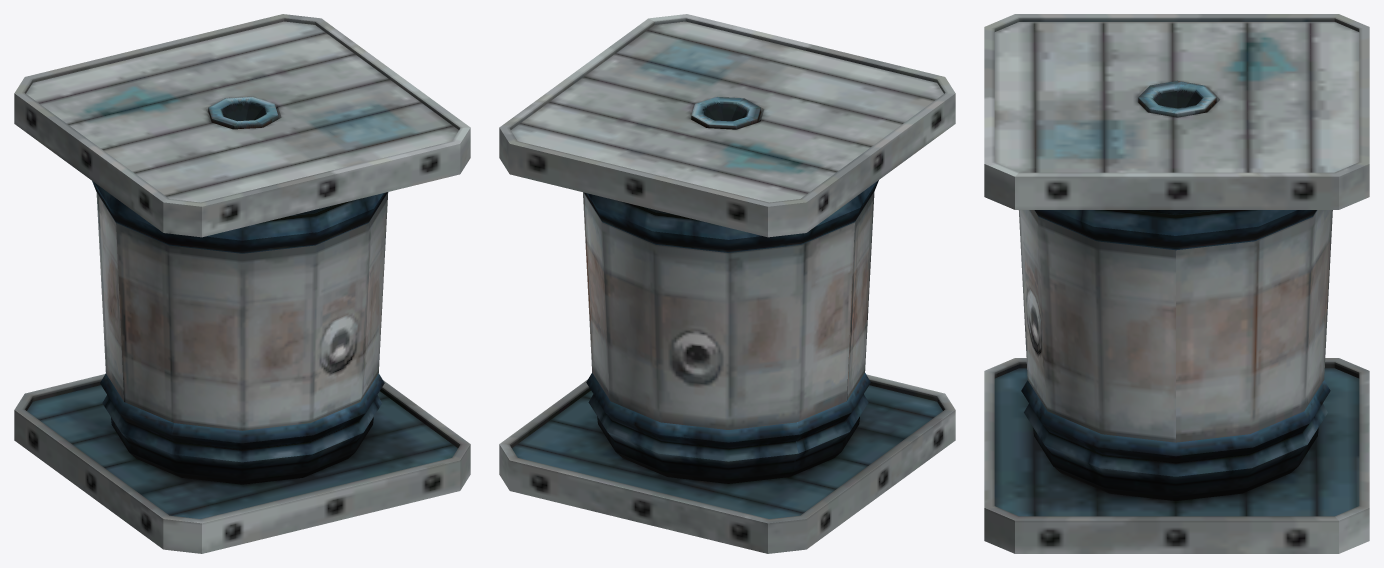
File: Square_Barrel.FBX
3 views of the same model, side by side, from view 1: azimuth 30°, elevation 25°; view 2: azimuth 150°, elevation 25°; view 3: azimuth 270°, elevation 25° (orthographic). The views are drawn at different scales.
Visible parts, largest first — view 1: Square_barel; view 2: Square_barel; view 3: Square_barel.
Part boxes in pixels (left/top/right/bottom): Square_barel: left=14, top=14, right=470, bottom=553; Square_barel: left=499, top=14, right=955, bottom=553; Square_barel: left=984, top=14, right=1369, bottom=553.
Bounding box in the file's own units: 66.26 × 71.57 × 66.26.
1 material, 1 textured.
